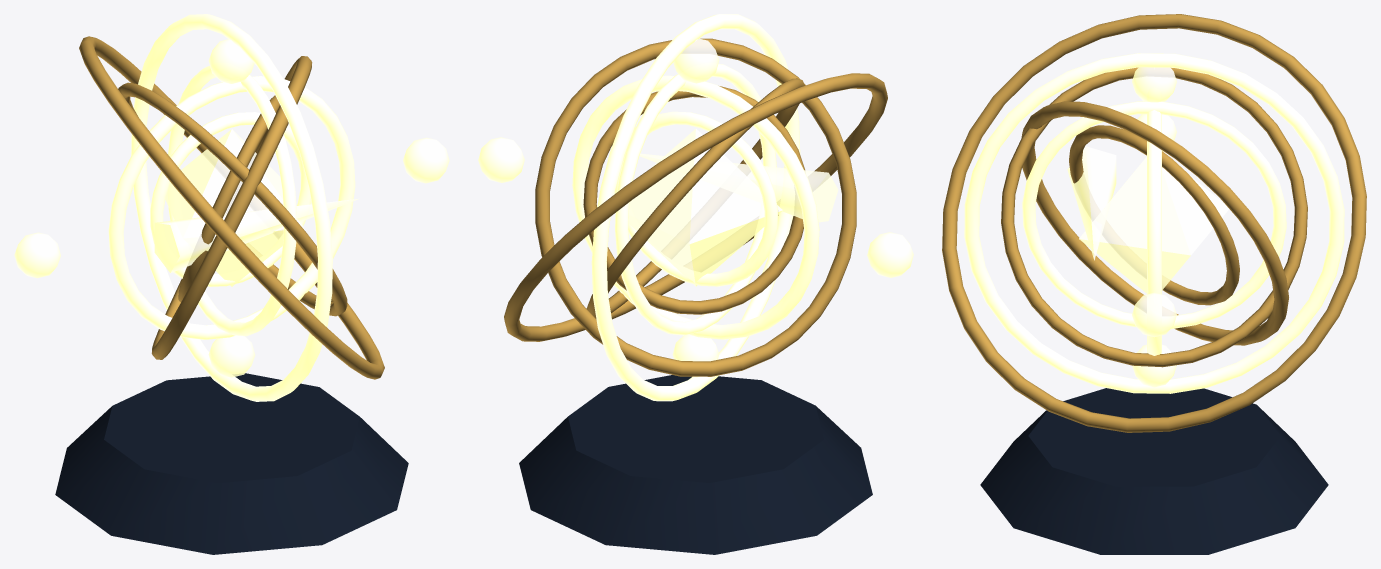
File: opt.glb
3 renders of one model, left to right at view 1: azimuth 30°, elevation 25°; view 2: azimuth 150°, elevation 25°; view 3: azimuth 270°, elevation 25°, orthographic. The views are drawn at different scales.
Parts seen in each view (by area): view 1: body, identity-opt; view 2: body, identity-opt; view 3: body, identity-opt.
Boxes of the visible parts, x1,y1,x2,y2 form: body: (14,14,449,554); identity-opt: (118,65,359,336); body: (478,14,913,554); identity-opt: (583,63,838,335); body: (942,14,1366,554); identity-opt: (1001,67,1307,367).
Size of the model in its own units: 1.59 by 1.59 by 1.41.
